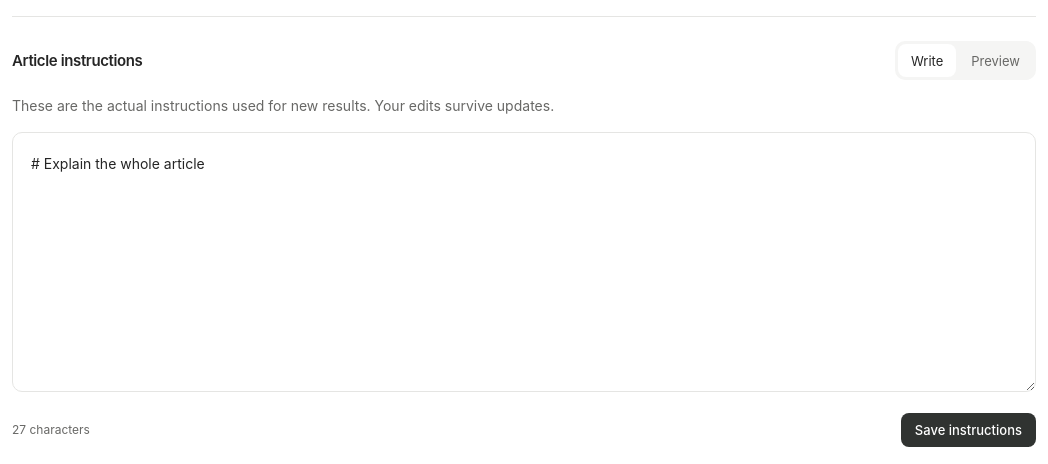
Test case: loads the actual task instructions and saves edits to the same document
Replace the text in the text box showing "# Explain the whole article" with "# Explain with context" at (524,262), box [12,132,1036,392]
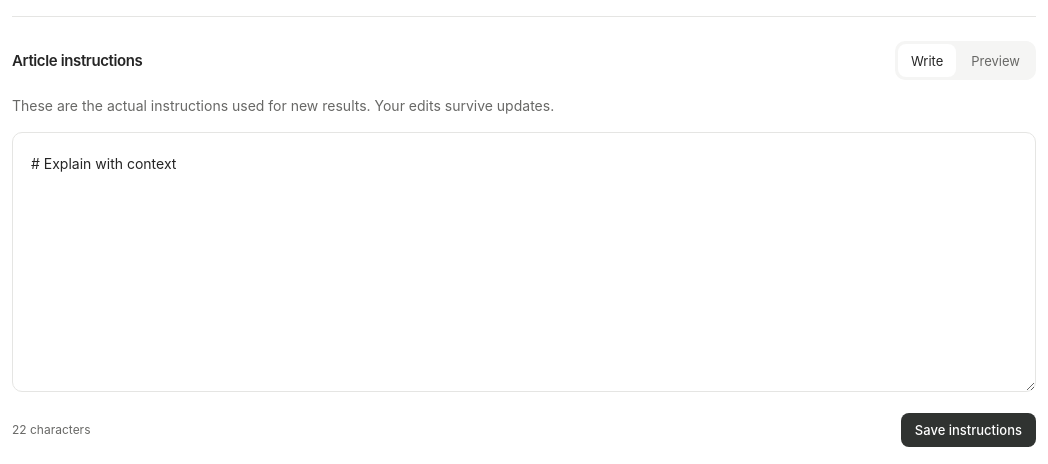
Click the button "Save instructions".
click(968, 430)  # box [901,413,1036,447]
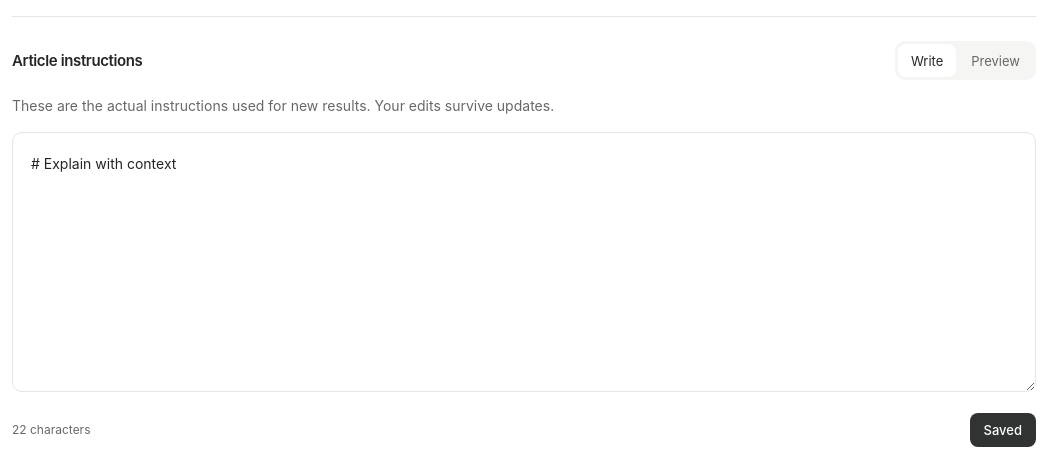
expect the button "Saved" is shown: met, box [970,413,1036,447]
